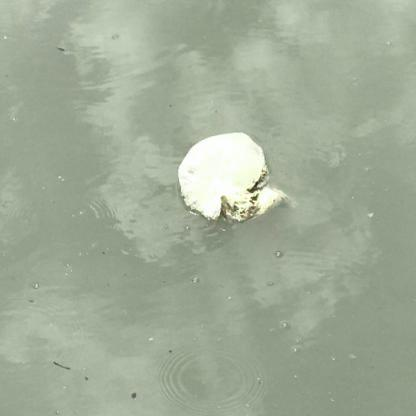Trash: (178, 130, 287, 233)
